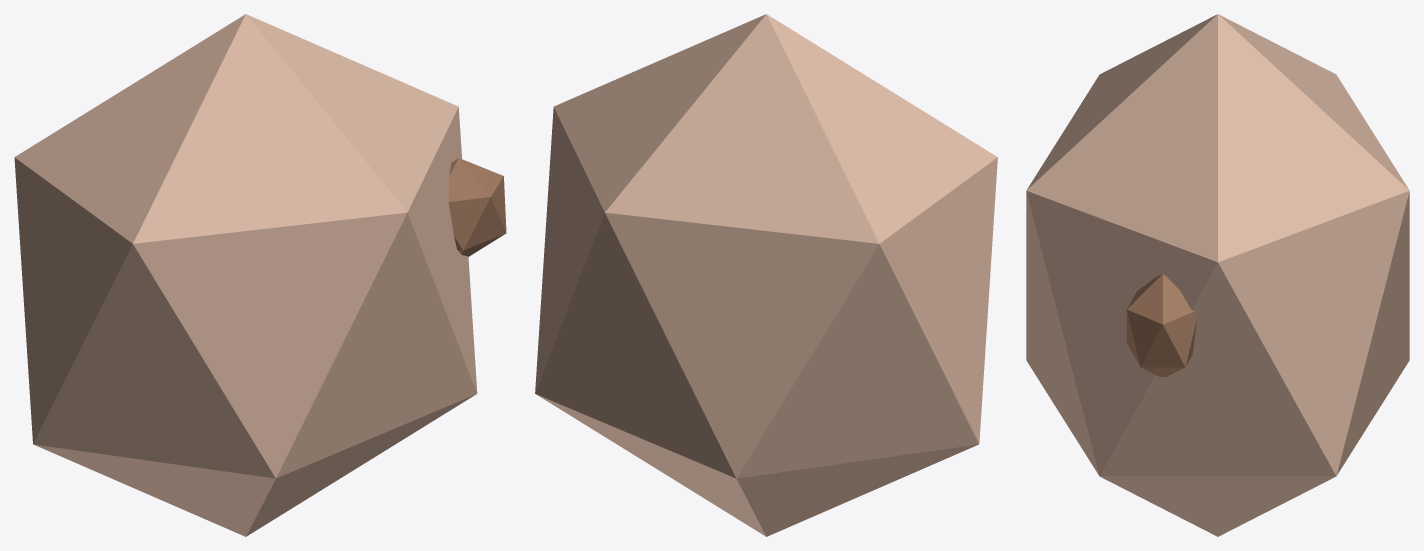
File: fish_002_ocellaris_clownfish__egg.glb
3 views of the same model, side by side, from view 1: azimuth 30°, elevation 25°; view 2: azimuth 150°, elevation 25°; view 3: azimuth 270°, elevation 25° (orthographic).
Visible parts, largest first — view 1: fish_002_ocellaris_clownfish__egg__shell, fish_002_ocellaris_clownfish__egg__embryo_mark; view 2: fish_002_ocellaris_clownfish__egg__shell; view 3: fish_002_ocellaris_clownfish__egg__shell, fish_002_ocellaris_clownfish__egg__embryo_mark.
Boxes of the visible parts, x1,y1,x2,y2 form: fish_002_ocellaris_clownfish__egg__shell: (14, 14, 477, 536); fish_002_ocellaris_clownfish__egg__embryo_mark: (448, 158, 506, 256); fish_002_ocellaris_clownfish__egg__shell: (535, 14, 997, 536); fish_002_ocellaris_clownfish__egg__shell: (1026, 14, 1409, 536); fish_002_ocellaris_clownfish__egg__embryo_mark: (1126, 274, 1197, 376).
Size of the model in its own units: 0.00242 by 0.00273 by 0.00181.
